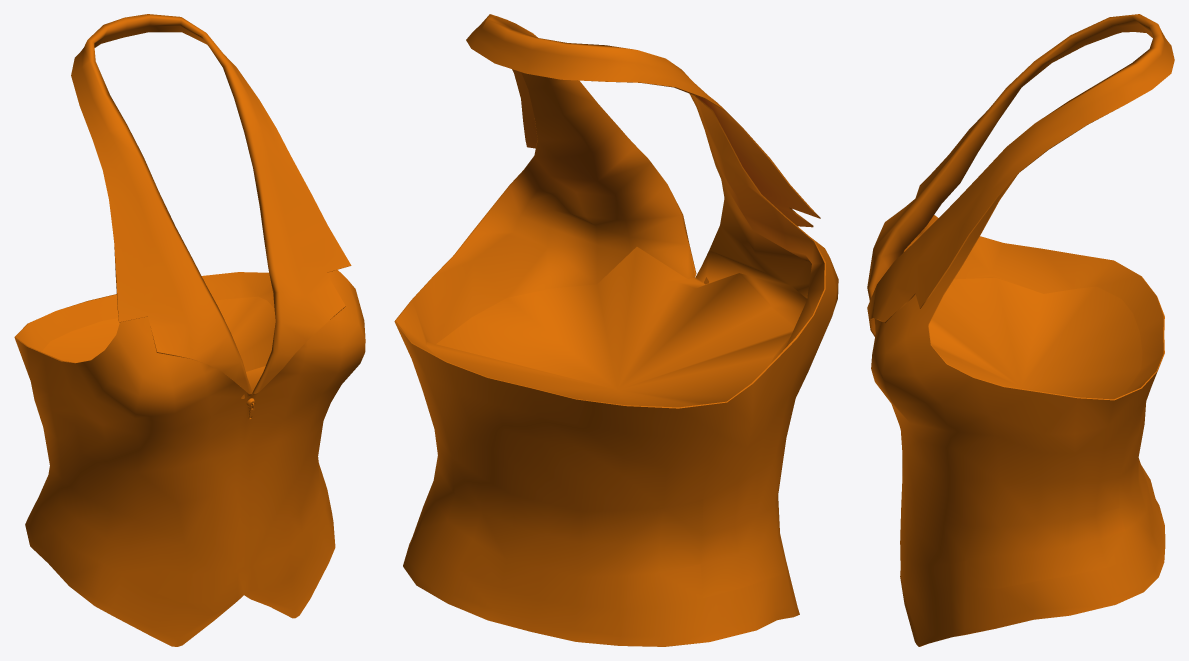
The model's file is corsetem2.glb.
The picture shows the model from 3 angles, left to right: view 1: azimuth 30°, elevation 25°; view 2: azimuth 150°, elevation 25°; view 3: azimuth 270°, elevation 25°; orthographic projection. The views are drawn at different scales.
Parts seen in each view (by area): view 1: hash_B0C171BA.model; view 2: hash_B0C171BA.model; view 3: hash_B0C171BA.model.
Boxes of the visible parts, box(x1,y1,x2,y2) form: hash_B0C171BA.model: box(14, 14, 365, 646); hash_B0C171BA.model: box(394, 14, 838, 646); hash_B0C171BA.model: box(867, 14, 1174, 646).
Size of the model in its own units: 0.3091 by 0.5693 by 0.2739.
